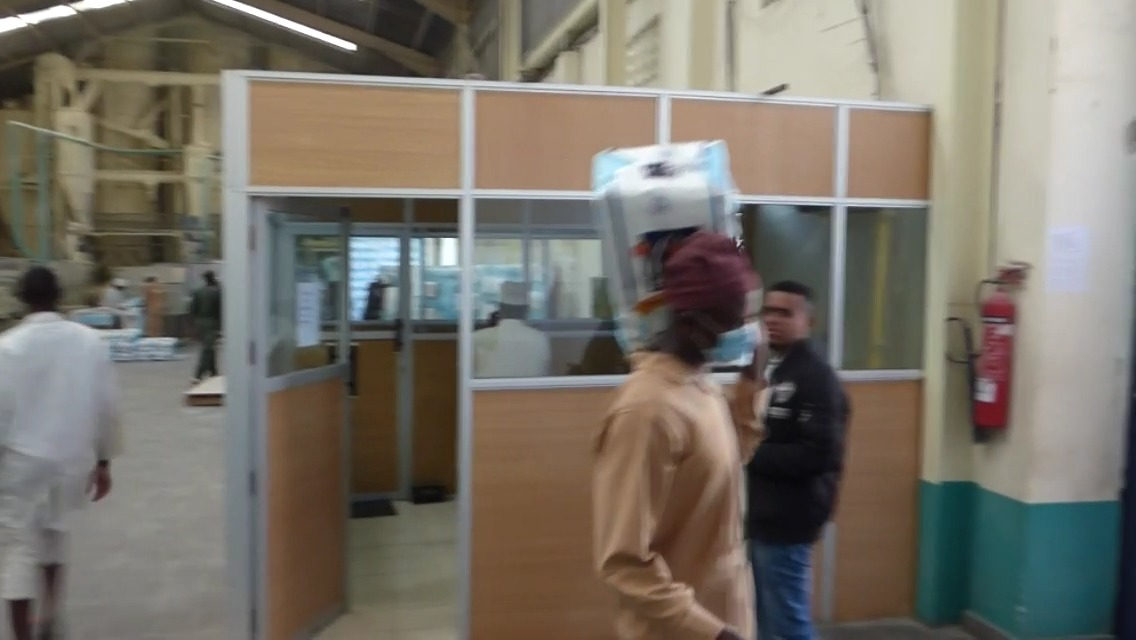wheat_flour_blue_label: (594, 146, 746, 361)
